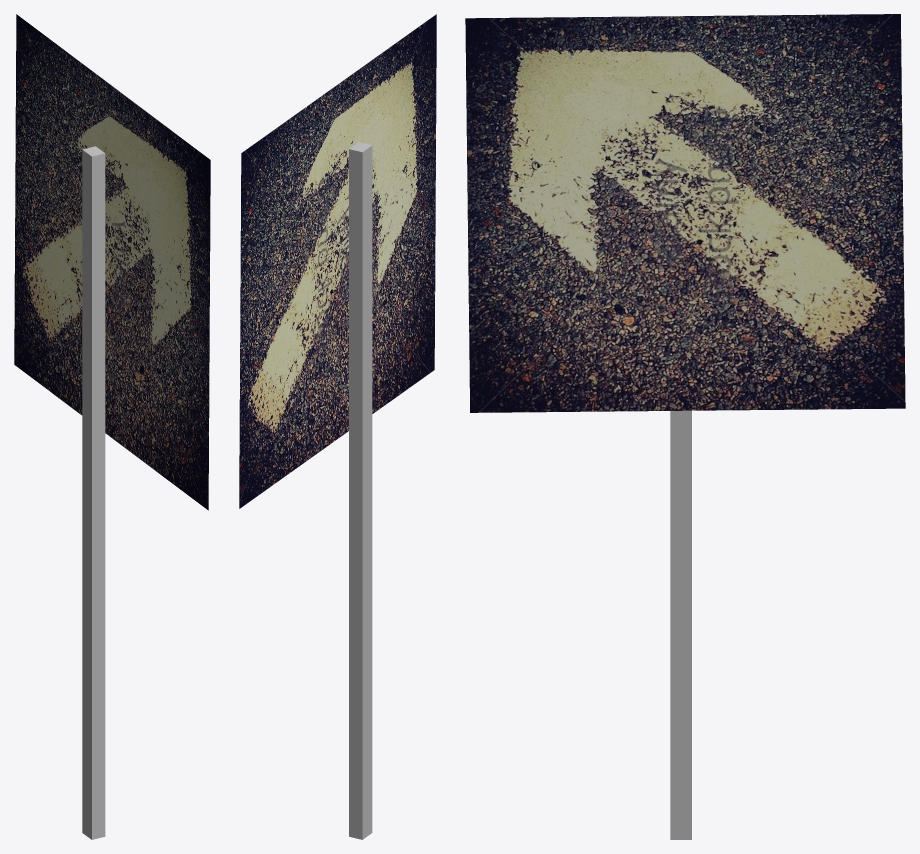
File: left.obj
3 renders of one model, left to right at view 1: azimuth 30°, elevation 25°; view 2: azimuth 150°, elevation 25°; view 3: azimuth 270°, elevation 25°, orthographic. The views are drawn at different scales.
Visible parts, largest first — view 1: Plane, Cube_Cube.001; view 2: Plane, Cube_Cube.001; view 3: Plane, Cube_Cube.001.
Boxes of the visible parts, box(x1,y1,x2,y2) form: Plane: box(14, 14, 210, 510); Cube_Cube.001: box(82, 146, 105, 839); Plane: box(239, 14, 436, 508); Cube_Cube.001: box(349, 142, 372, 839); Plane: box(465, 14, 905, 412); Cube_Cube.001: box(670, 410, 691, 839).
Bounding box in the file's own units: 0.1625 × 4.22 × 2.02.
Materials: 2 (1 with a texture image).
